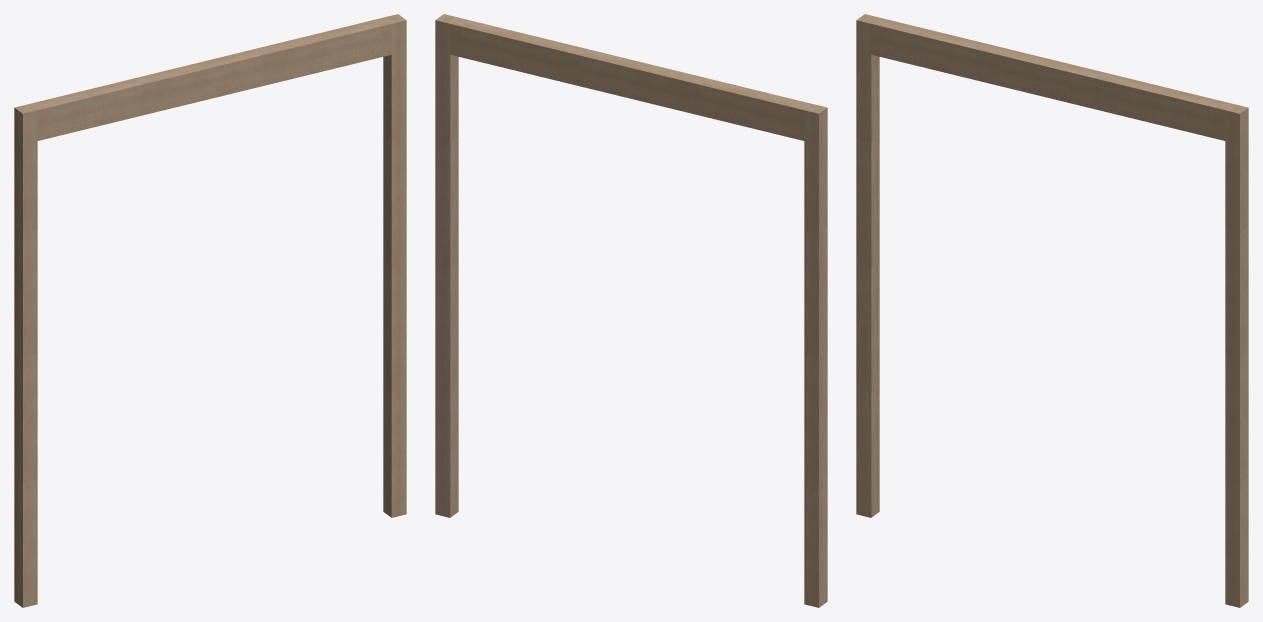
File: es-flame_h2400-w1800_kareiro.fbx
3 renders of one model, left to right at view 1: azimuth 30°, elevation 25°; view 2: azimuth 150°, elevation 25°; view 3: azimuth 330°, elevation 25°, orthographic.
Parts seen in each view (by area): view 1: es-flame_h2400-w1800_kareiro; view 2: es-flame_h2400-w1800_kareiro; view 3: es-flame_h2400-w1800_kareiro.
Boxes of the visible parts, x1,y1,x2,y2 form: es-flame_h2400-w1800_kareiro: (14, 14, 406, 607); es-flame_h2400-w1800_kareiro: (435, 14, 827, 607); es-flame_h2400-w1800_kareiro: (856, 14, 1248, 607).
Size of the model in its own units: 195 by 240 by 7.5.
1 material, 1 textured.
